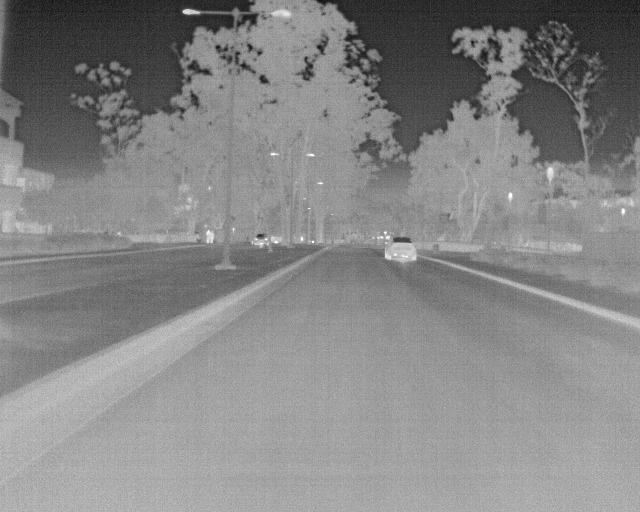car: (382, 235, 418, 261), (254, 229, 268, 247)
